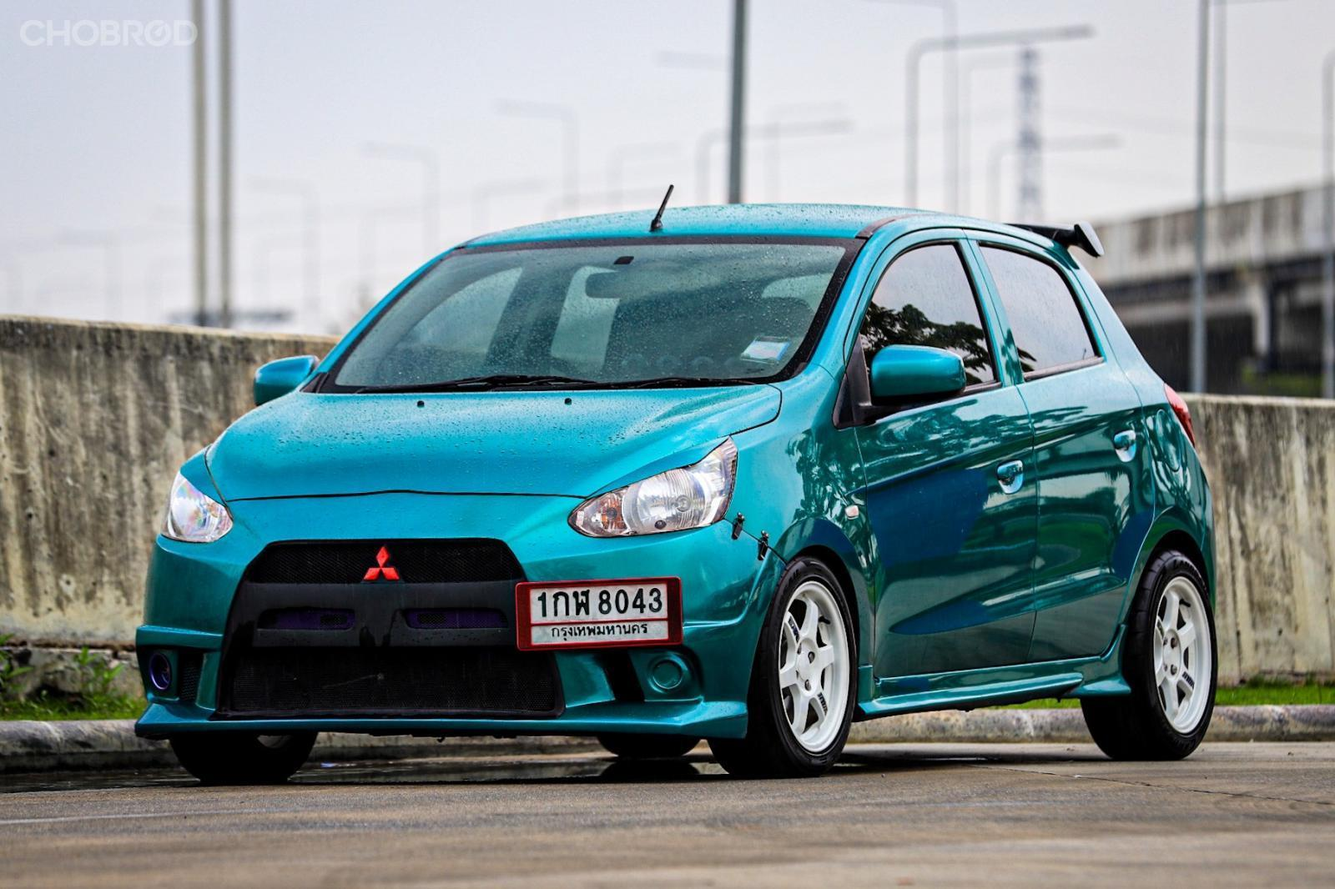license-plate: (515, 574, 687, 642)
